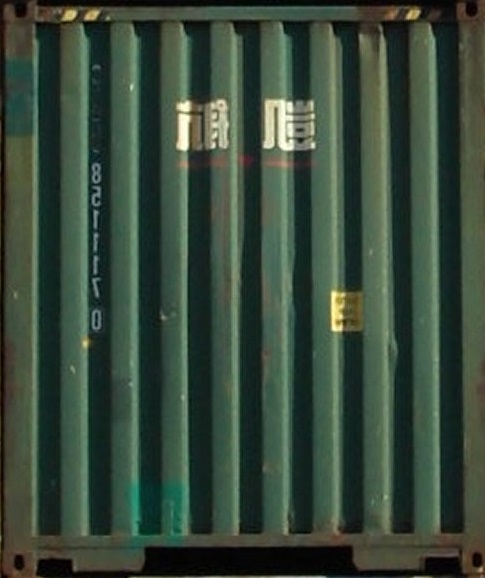container_no_door: (6, 4, 481, 571)
